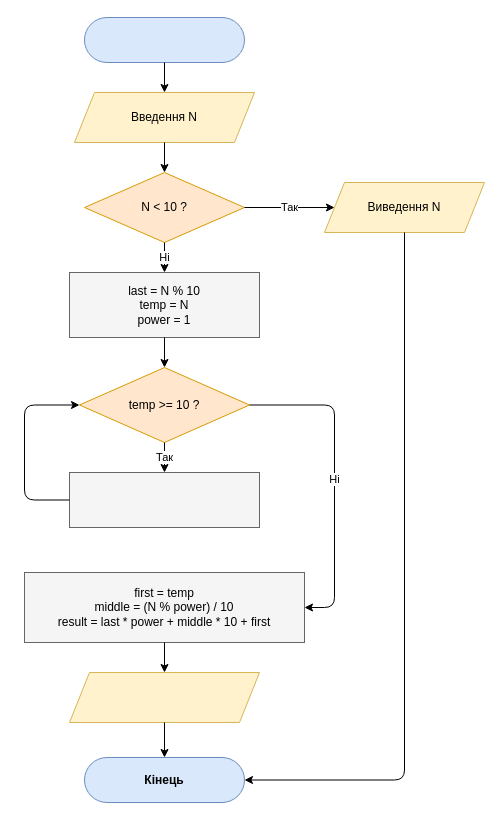
The diagram is 502 pixels wide and 820 high, and some of its shapes have lost their labels. The shapes that lost their labels are listed below. From the top down, each one's centre as x and y in pixels, then its label:
point (164, 39): Початок
point (164, 500): temp = temp / 10 power = power * 10
point (164, 697): Виведення result
